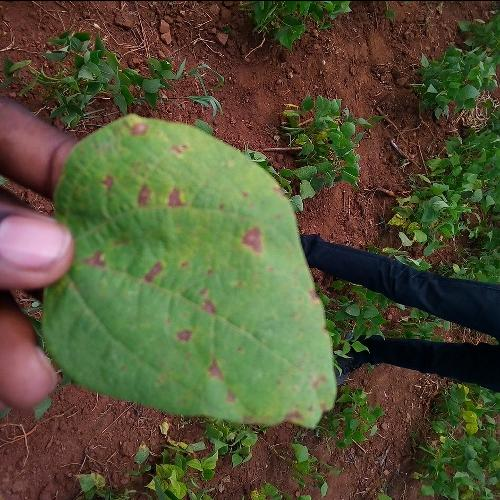hawar: (54, 60, 339, 448)
